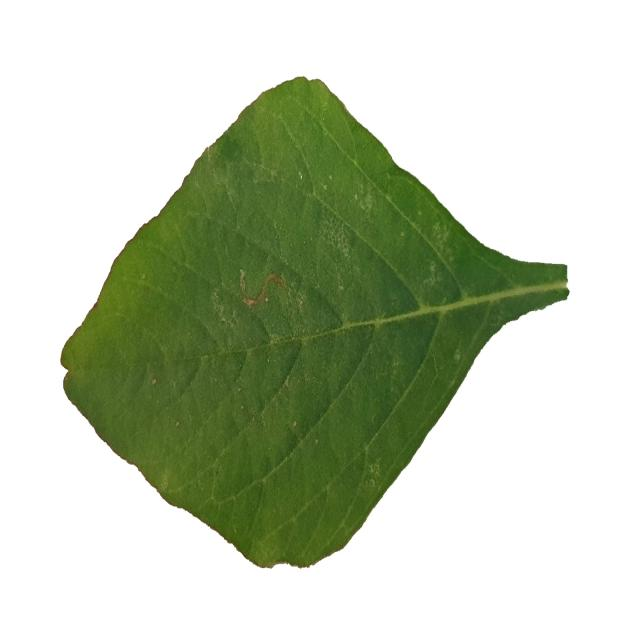Medicinal-Arive Dantu: (60, 76, 570, 571)
